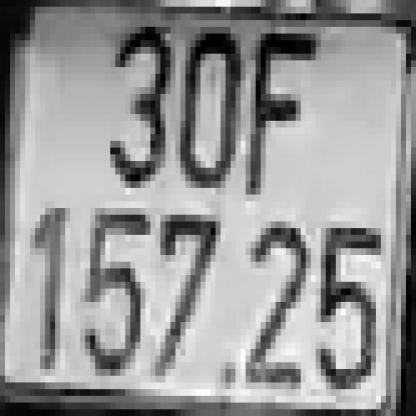0: (180, 33, 236, 188)
1: (25, 208, 80, 362)
2: (240, 221, 300, 376)
3: (110, 33, 171, 188)
5: (86, 208, 146, 362), (316, 221, 371, 382)
7: (156, 208, 210, 362)
F: (250, 33, 310, 188)
